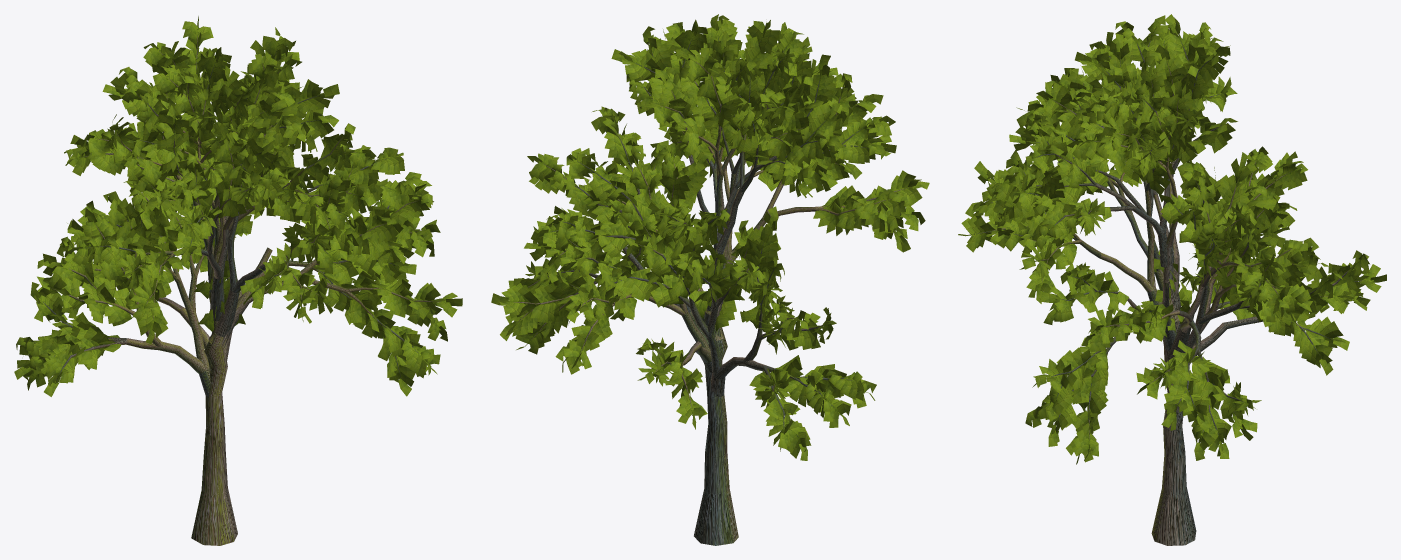
The model's file is Tree_1.fbx.
The picture shows the model from 3 angles, left to right: view 1: azimuth 30°, elevation 25°; view 2: azimuth 150°, elevation 25°; view 3: azimuth 270°, elevation 25°; orthographic projection.
Visible parts, largest first — view 1: oakWhiteMedium1Leaf, oakWhiteMedium1Main; view 2: oakWhiteMedium1Leaf, oakWhiteMedium1Main; view 3: oakWhiteMedium1Leaf, oakWhiteMedium1Main.
Boxes of the visible parts, x1,y1,x2,y2 form: oakWhiteMedium1Leaf: (14,16,462,396); oakWhiteMedium1Main: (34,36,440,545); oakWhiteMedium1Leaf: (491,14,929,460); oakWhiteMedium1Main: (513,36,908,545); oakWhiteMedium1Leaf: (958,14,1386,464); oakWhiteMedium1Main: (976,36,1363,545).
Size of the model in its own units: 4.68 by 6.16 by 4.78.
